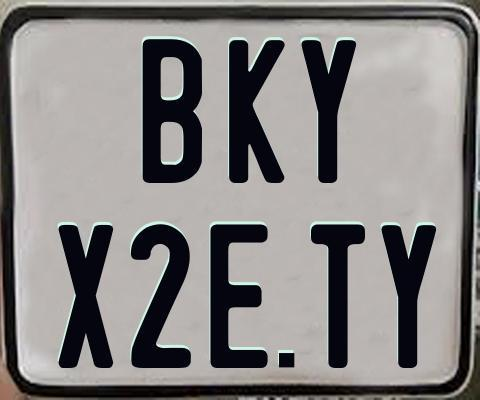2: (128, 223, 188, 371)
B: (141, 36, 205, 185)
E: (208, 224, 267, 368)
K: (228, 39, 285, 184)
T: (309, 223, 367, 368)
X: (57, 222, 118, 368)
Y: (380, 225, 437, 372), (300, 40, 356, 183)
